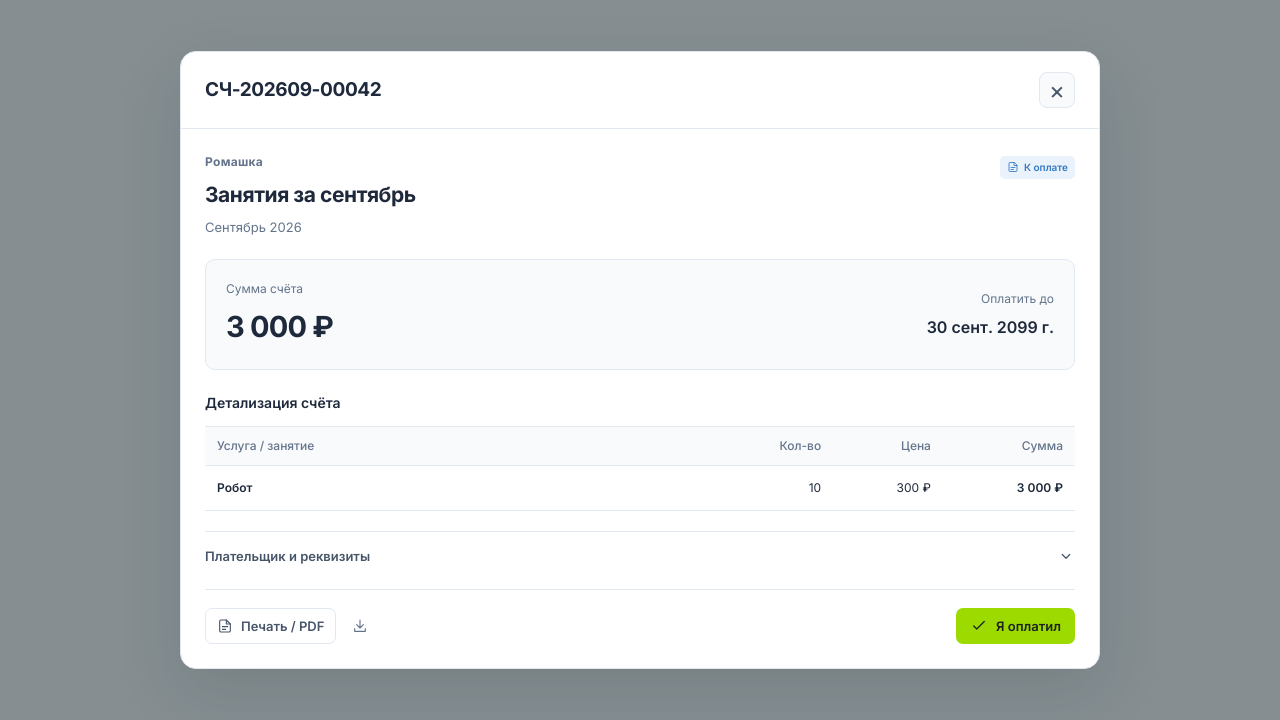
Test: a branch sends its current revision and payment note, then preserves the accepted claim if refresh fails
Expected: the heading "Занятия за сентябрь" is shown, 205,179 -> 416,210
Step 1. Click the button "Я оплатил" → click(1016, 626), box 956,608 -> 1075,644
(page scrolled)
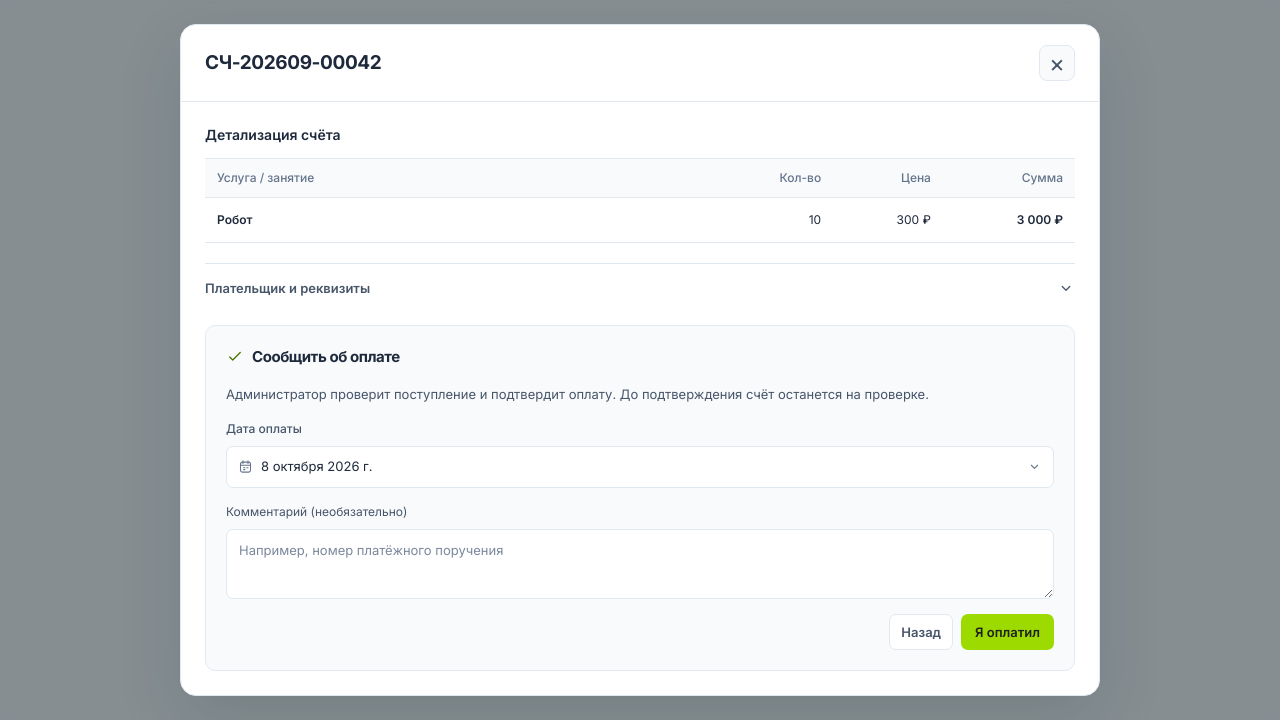
Step 2. Type "  Поручение 42  " into the text box labelled "Комментарий (необязательно)" → (640, 564), box 226,529 -> 1054,599
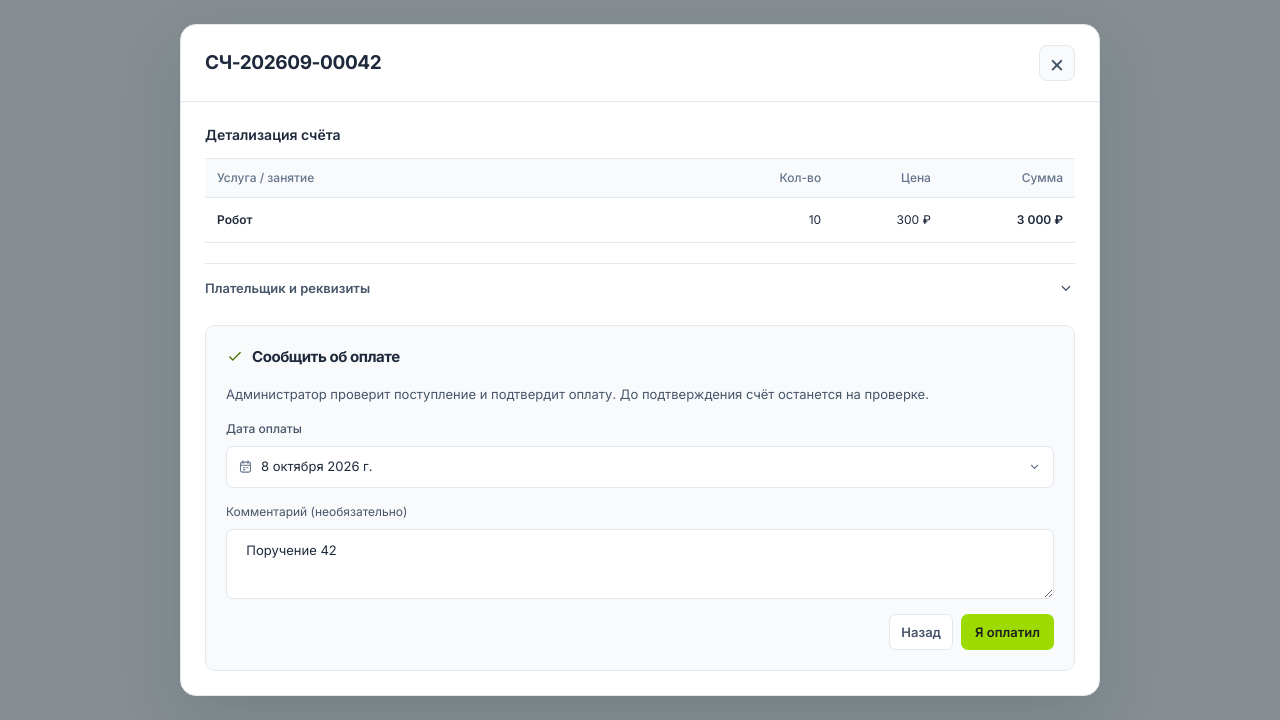
Step 3. Click the button "Я оплатил" → click(1008, 632), box 961,614 -> 1054,650
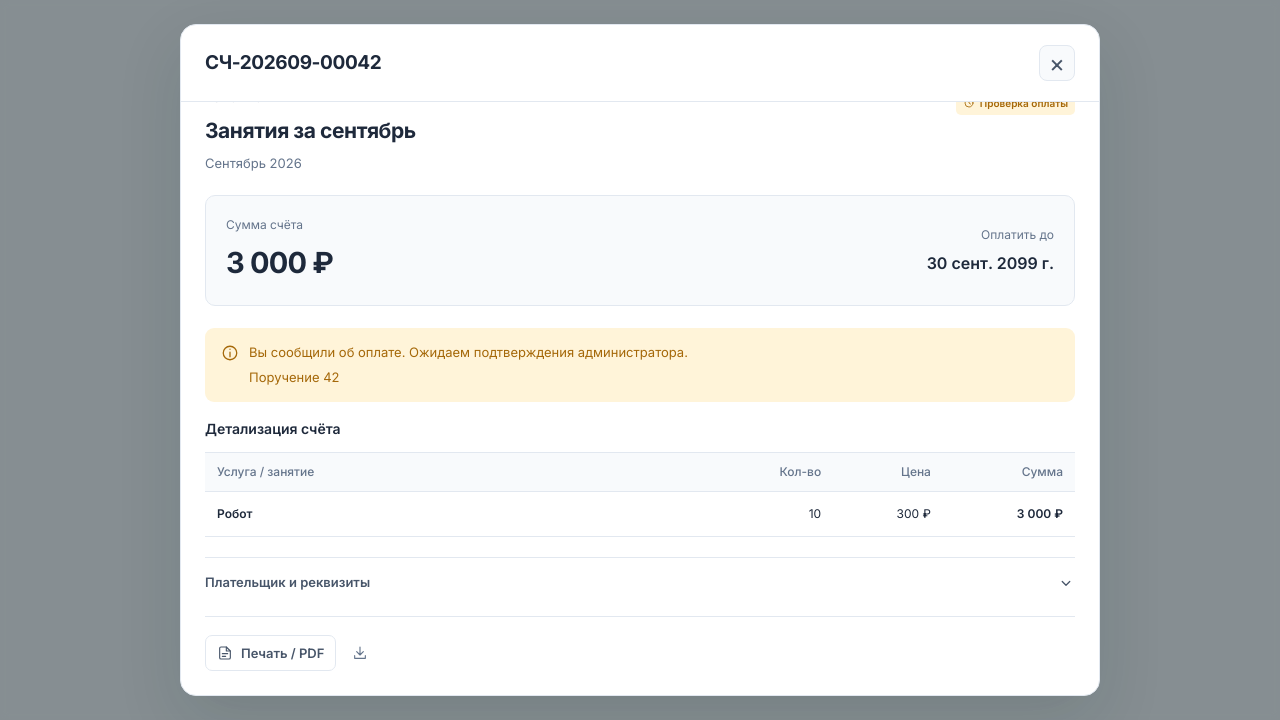
Expected: the button "Я оплатил" is gone
